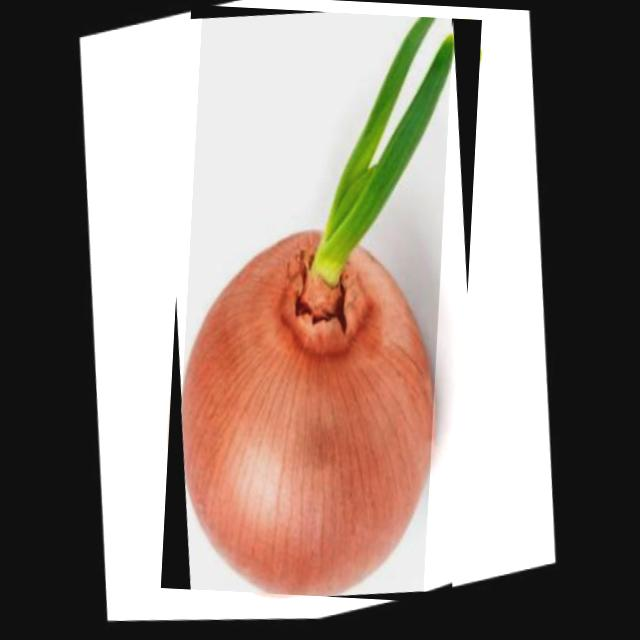sprouting: (182, 17, 452, 596)
